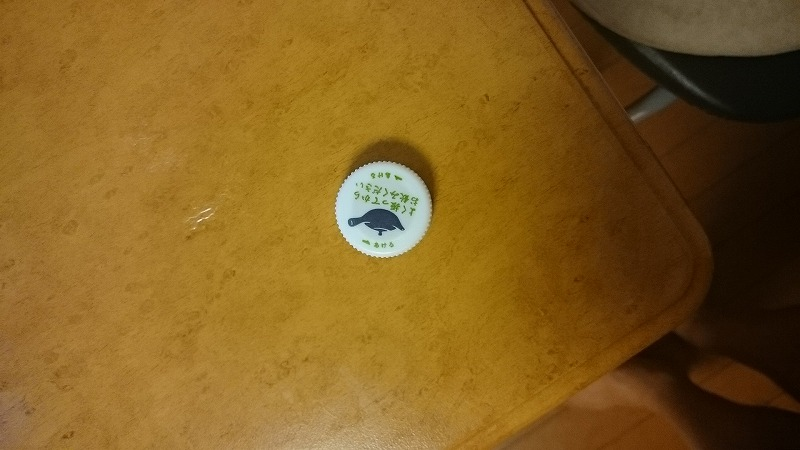A: (328, 153, 441, 264)
